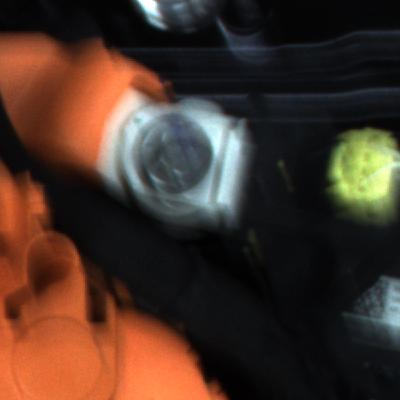nut_b: (126, 109, 225, 191)
